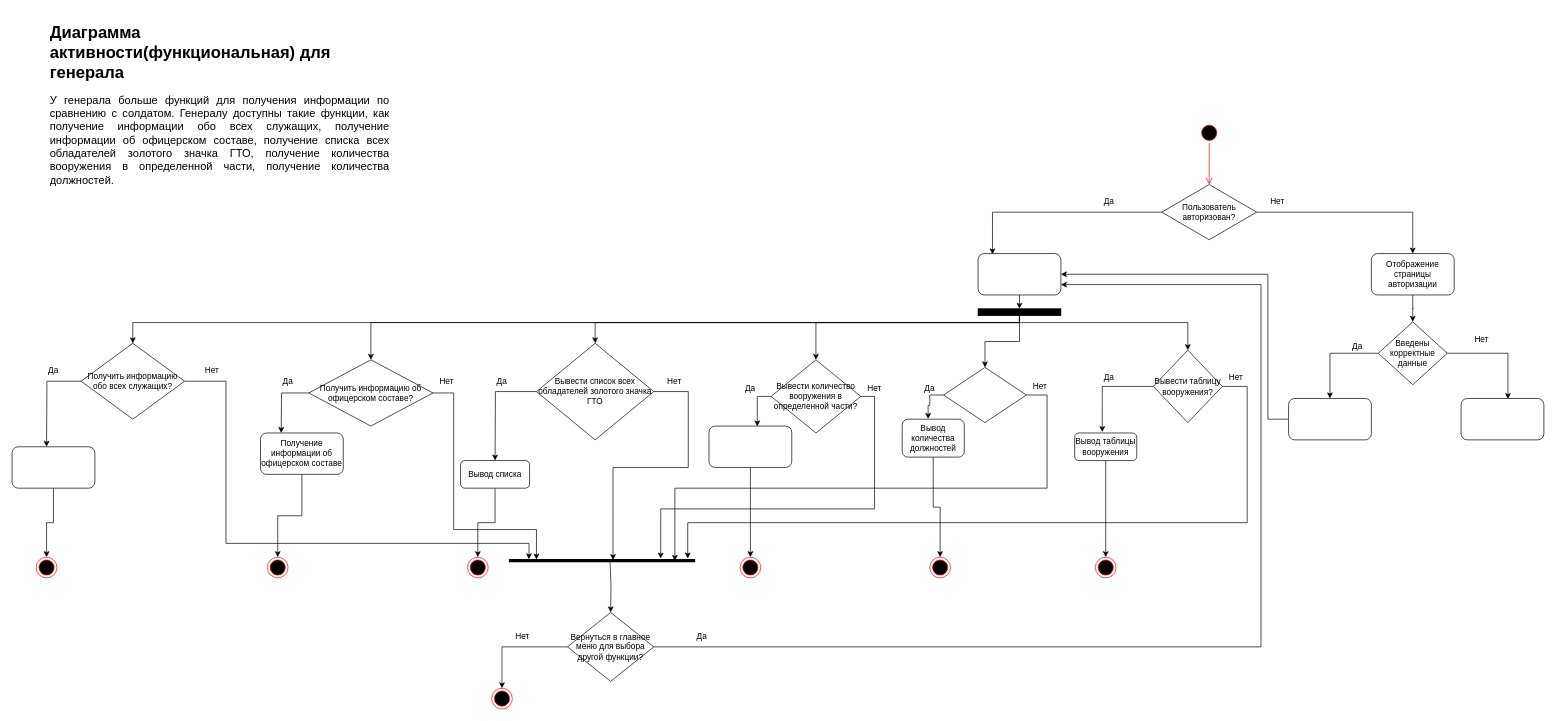
The diagram is 1556 pixels wide and 721 high, and some of its shapes have lost their labels. Each missing label, with the centre of its shape:
Аутентификация пользователя: the point at 1329,419
Возвращение на страницу авторизации: the point at 1502,419
Вывести количество должностей?: the point at 984,395
Вывод количества вооружения в выбранной части: the point at 750,446
Отображение главного меню: the point at 1019,274
Получение информации обо всех служащих: the point at 53,467
